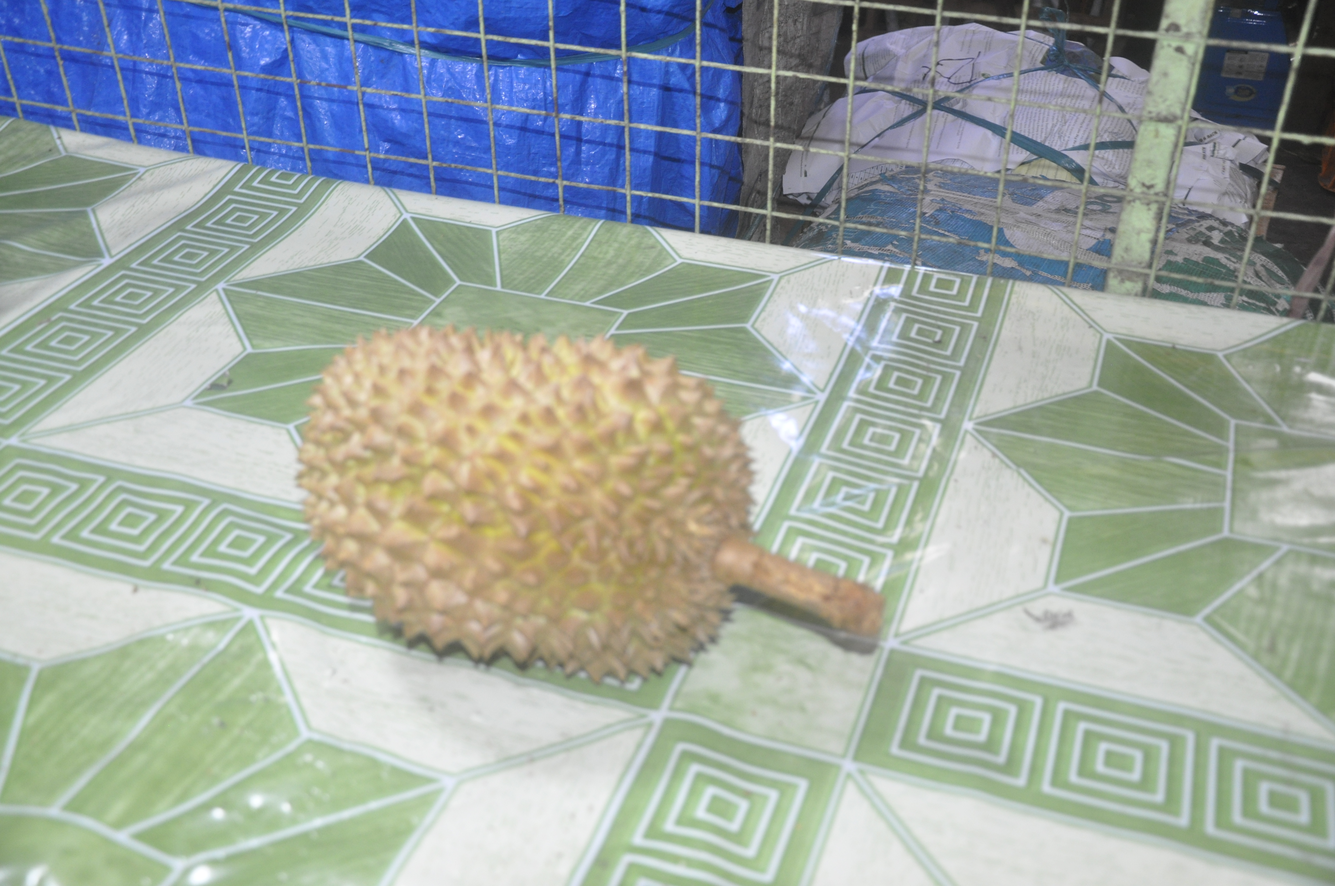mature: (298, 327, 881, 678)
